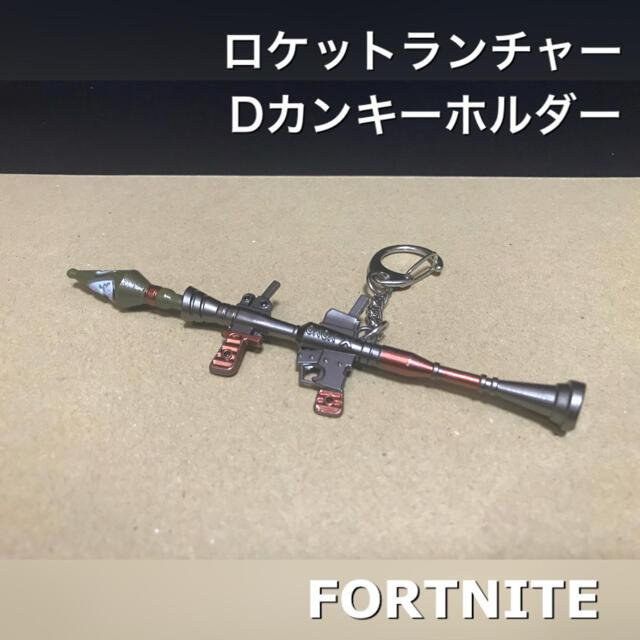bazooka: (61, 264, 592, 441)
